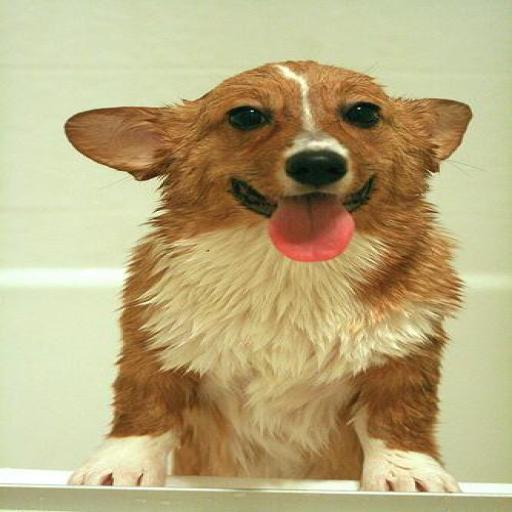dog_face: (62, 64, 480, 237)
